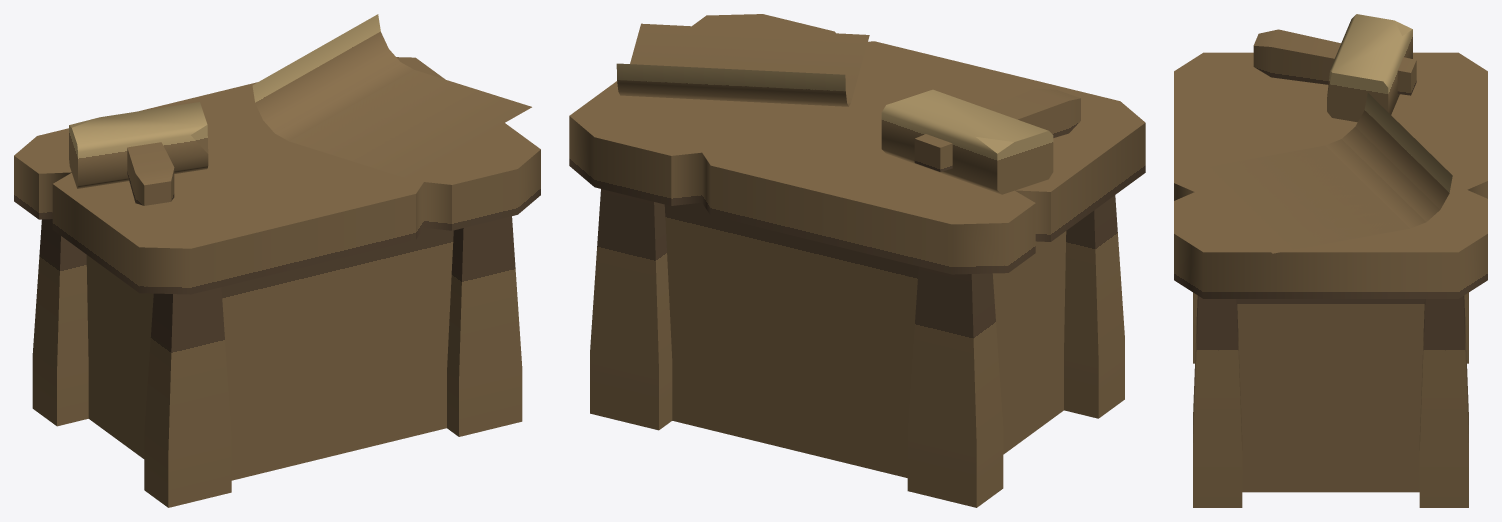
Rendered from workbench-long-table.glb.
3 views of the same model, side by side, from view 1: azimuth 30°, elevation 25°; view 2: azimuth 150°, elevation 25°; view 3: azimuth 270°, elevation 25° (orthographic). The views are drawn at different scales.
Visible parts, largest first — view 1: workbench-long-table runtime mesh; view 2: workbench-long-table runtime mesh; view 3: workbench-long-table runtime mesh.
Boxes of the visible parts, x1=… form: workbench-long-table runtime mesh: x1=14, y1=14, x2=540, y2=507; workbench-long-table runtime mesh: x1=569, y1=14, x2=1145, y2=507; workbench-long-table runtime mesh: x1=1174, y1=14, x2=1487, y2=507.
Size of the model in its own units: 1.19 by 0.85 by 0.7453.
Materials: 3 (3 with a texture image).
